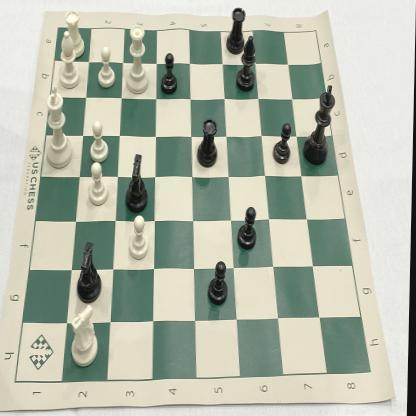black-bishop: (234, 35, 261, 96)
black-king: (301, 81, 339, 167)
black-knight: (74, 236, 108, 307), (123, 148, 153, 219)
black-pawn: (208, 256, 234, 310), (234, 201, 260, 255), (157, 51, 180, 100), (272, 118, 294, 168)
black-rook: (194, 114, 223, 173), (223, 3, 249, 58)
white-bishop: (55, 30, 83, 90)
white-king: (42, 83, 77, 171)
white-knight: (67, 301, 105, 373)
white-pawn: (94, 41, 121, 93), (86, 159, 112, 210), (127, 214, 154, 263), (87, 117, 113, 165)
white-queen: (122, 21, 155, 99)
white-rook: (61, 7, 90, 62)
